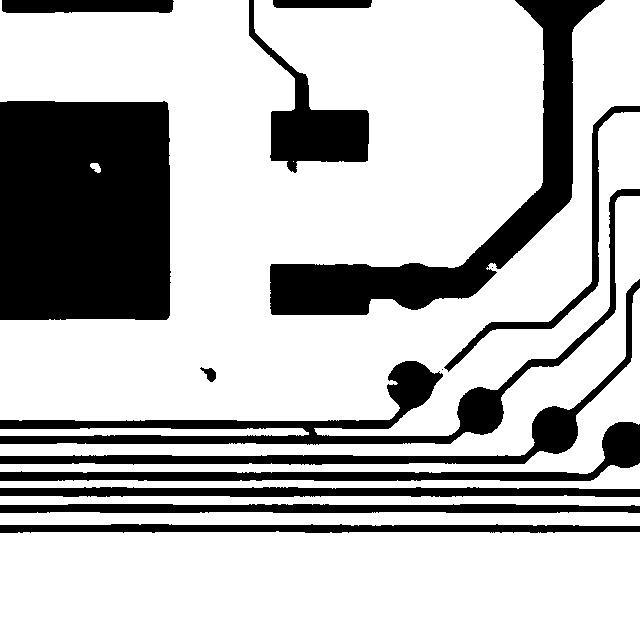copper: (190, 357, 225, 391)
mousebite: (476, 253, 512, 282), (375, 370, 407, 394)
open: (426, 355, 462, 388)
pin-hole: (80, 153, 110, 182)
short: (292, 412, 326, 446)
spur: (277, 144, 306, 182)
